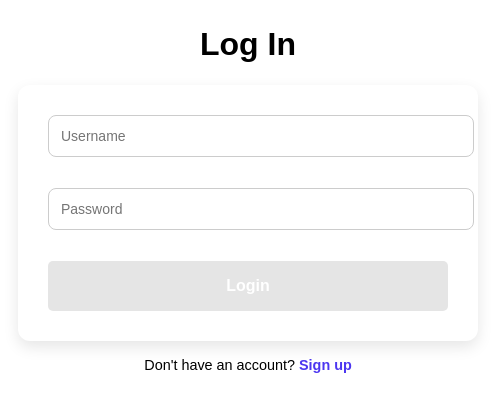
Login Page › shows error when login fails
In the field with placeholder "Username": (261, 136) [48, 115, 474, 157], type "wrong"
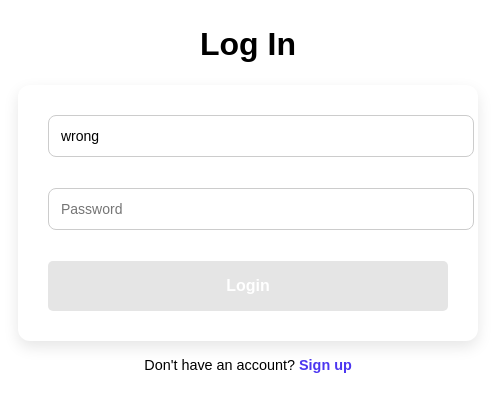
In the password field with placeholder "Password": (261, 209) [48, 188, 474, 230], type "wrongpass"
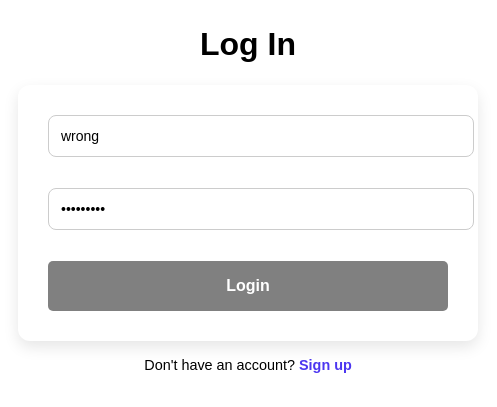
Click the button "Login": click(248, 286) [48, 261, 448, 311]
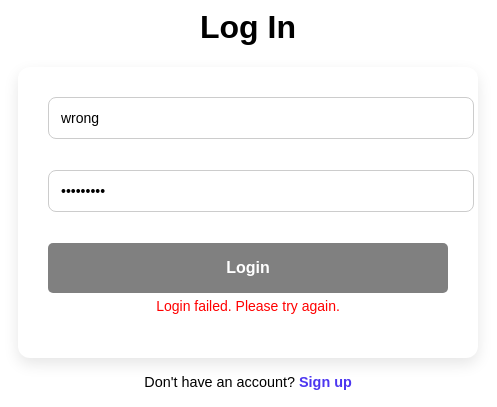
Result: the text "Login failed. Please try again." is shown at [156, 298, 340, 314]
